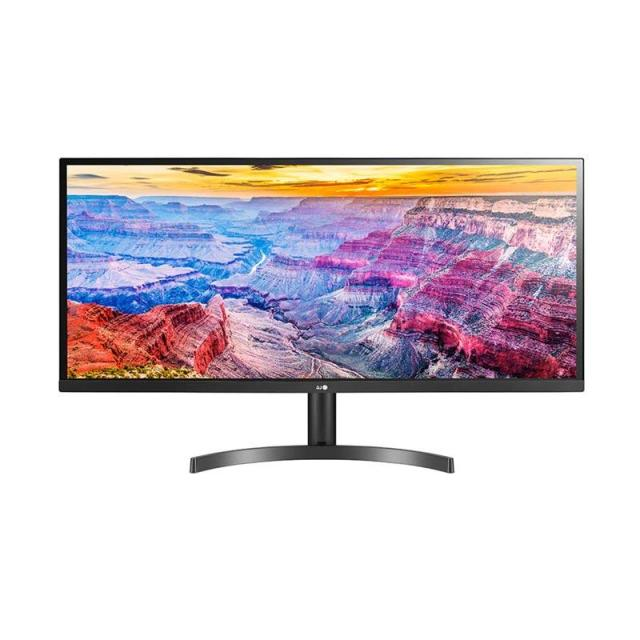monitor: (54, 149, 591, 482)
